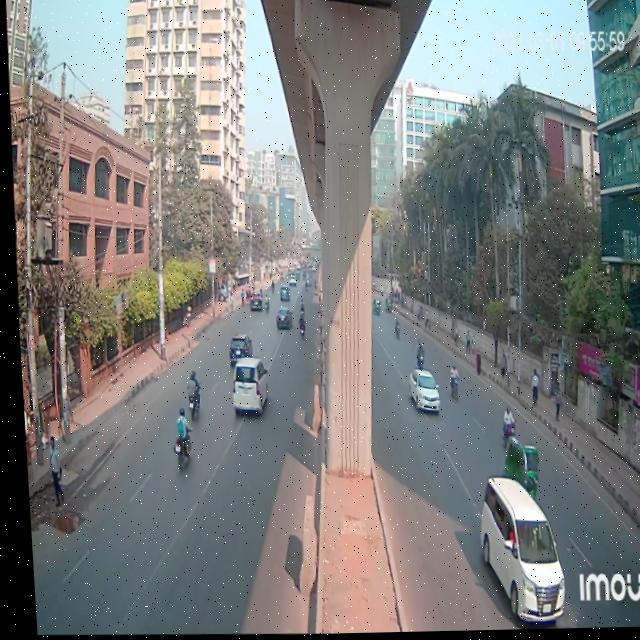cng: (495, 424, 538, 514), (368, 298, 380, 323)
